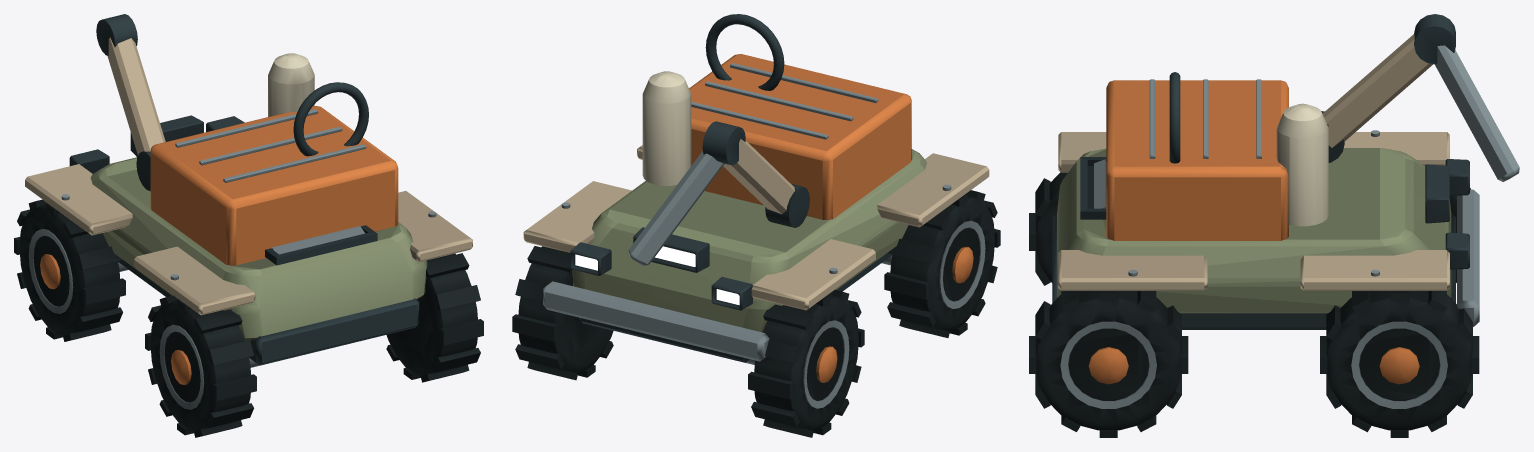
File: PatchCrawler.glb
3 renders of one model, left to right at view 1: azimuth 30°, elevation 25°; view 2: azimuth 150°, elevation 25°; view 3: azimuth 270°, elevation 25°, orthographic. The views are drawn at different scales.
Parts seen in each view (by area): view 1: export_PatchCrawler_Axle, export_PatchCrawler_Wheel_-0.90_-0.90_Tire, export_PatchCrawler_Wheel_-0.90_0.90_Tire, export_PatchCrawler_Wheel_0.90_-0.90_Tire, export_PatchCrawler_ArmBase; view 2: export_PatchCrawler_Axle, export_PatchCrawler_Wheel_-0.90_0.90_Tire, export_PatchCrawler_Wheel_-0.90_-0.90_Tire, export_PatchCrawler_ArmBase, export_PatchCrawler_Wheel_0.90_0.90_Tire; view 3: export_PatchCrawler_Axle, export_PatchCrawler_Wheel_0.90_-0.90_Tire, export_PatchCrawler_Wheel_0.90_0.90_Tire, export_PatchCrawler_ArmBase, export_PatchCrawler_Wheel_-0.90_-0.90_Tire.
Boxes of the visible parts, x1,y1,x2,y2 form: export_PatchCrawler_Axle: (25, 53, 472, 367); export_PatchCrawler_Wheel_-0.90_-0.90_Tire: (145, 295, 256, 437); export_PatchCrawler_Wheel_-0.90_0.90_Tire: (14, 199, 125, 341); export_PatchCrawler_Wheel_0.90_-0.90_Tire: (386, 253, 483, 382); export_PatchCrawler_ArmBase: (96, 14, 165, 191); export_PatchCrawler_Axle: (523, 14, 989, 364); export_PatchCrawler_Wheel_-0.90_0.90_Tire: (748, 290, 864, 437); export_PatchCrawler_Wheel_-0.90_-0.90_Tire: (884, 190, 1000, 337); export_PatchCrawler_ArmBase: (628, 121, 809, 265); export_PatchCrawler_Wheel_0.90_0.90_Tire: (512, 246, 613, 380); export_PatchCrawler_Axle: (1052, 72, 1479, 329); export_PatchCrawler_Wheel_0.90_-0.90_Tire: (1029, 291, 1188, 437); export_PatchCrawler_Wheel_0.90_0.90_Tire: (1320, 291, 1479, 437); export_PatchCrawler_ArmBase: (1321, 14, 1519, 181); export_PatchCrawler_Wheel_-0.90_-0.90_Tire: (1029, 172, 1067, 285).
Bounding box in the file's own units: 2.18 × 2.17 × 3.04.
